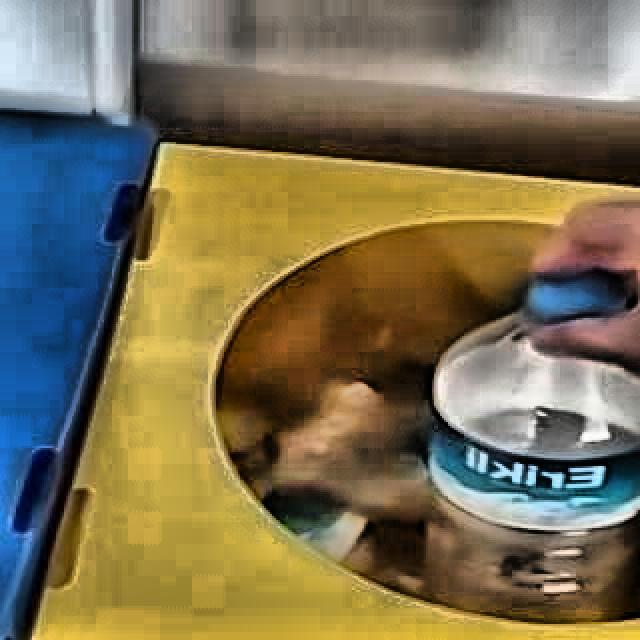plastic: (427, 270, 640, 623)
